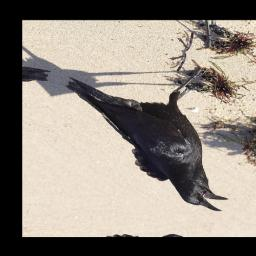Crow: (36, 30, 256, 215)
